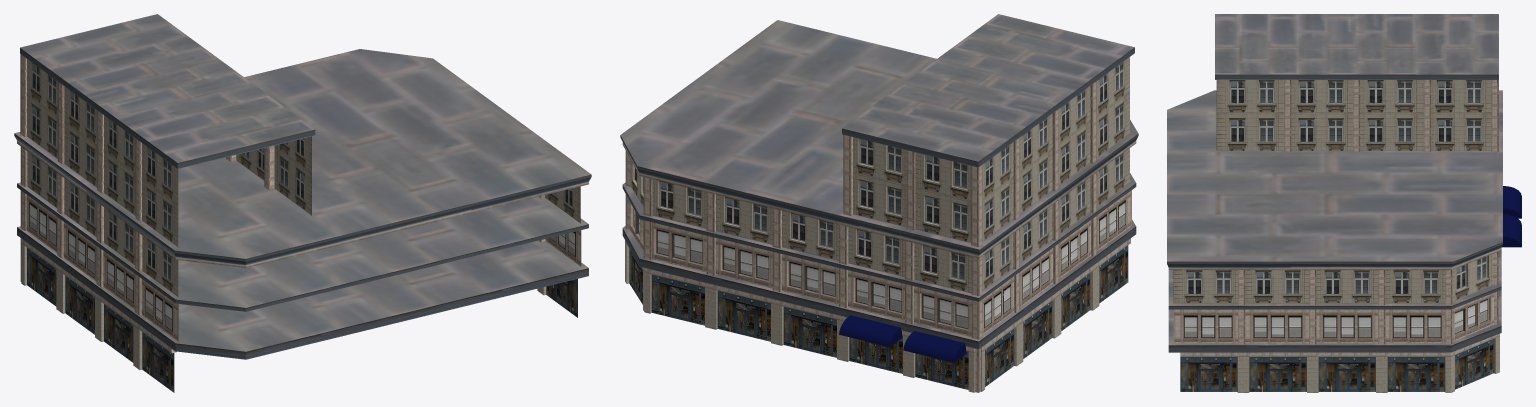
File: Build_Skin_DarkBlue.fbx
3 views of the same model, side by side, from view 1: azimuth 30°, elevation 25°; view 2: azimuth 150°, elevation 25°; view 3: azimuth 270°, elevation 25° (orthographic). The views are drawn at different scales.
Visible parts, largest first — view 1: Build_Skin_DarkBlue; view 2: Build_Skin_DarkBlue; view 3: Build_Skin_DarkBlue.
Boxes of the visible parts, bbox=[...] form: Build_Skin_DarkBlue: bbox=[14, 14, 591, 392]; Build_Skin_DarkBlue: bbox=[620, 14, 1138, 392]; Build_Skin_DarkBlue: bbox=[1167, 14, 1521, 392].
Size of the model in its own units: 1104 by 632 by 965.
Materials: 1 (1 with a texture image).
